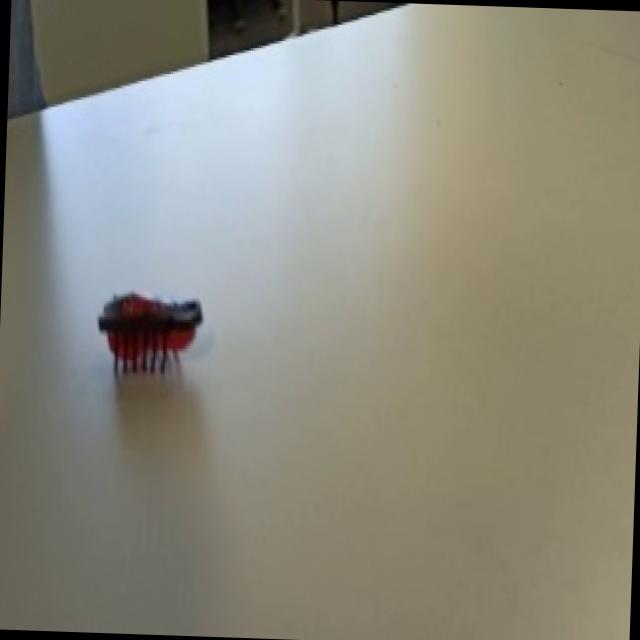2_NanoBug_Negro: (92, 272, 218, 388)
